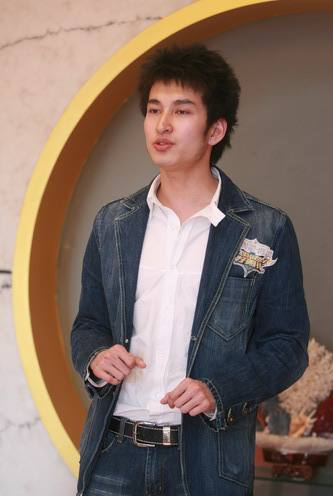person: (96, 47, 281, 484)
